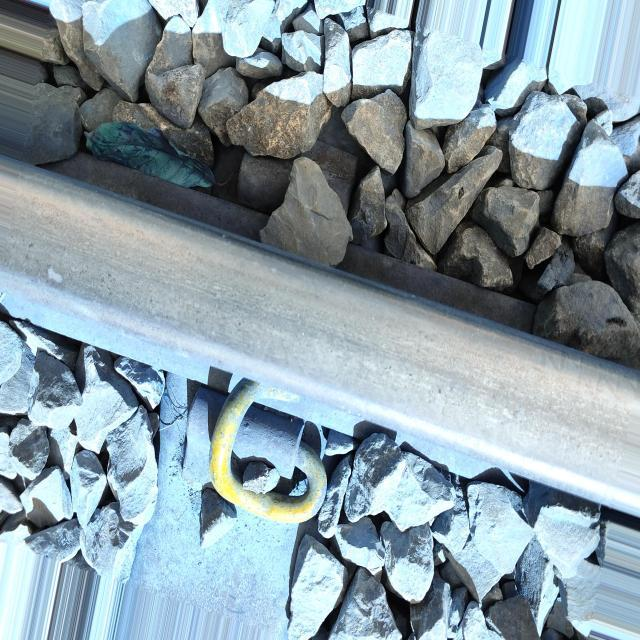Good Fasteners: (168, 367, 340, 550)
